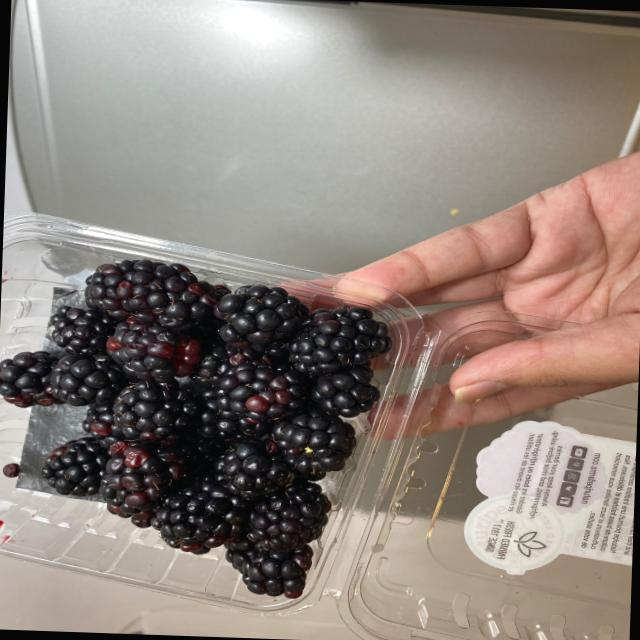blackberries: (33, 248, 358, 610)
